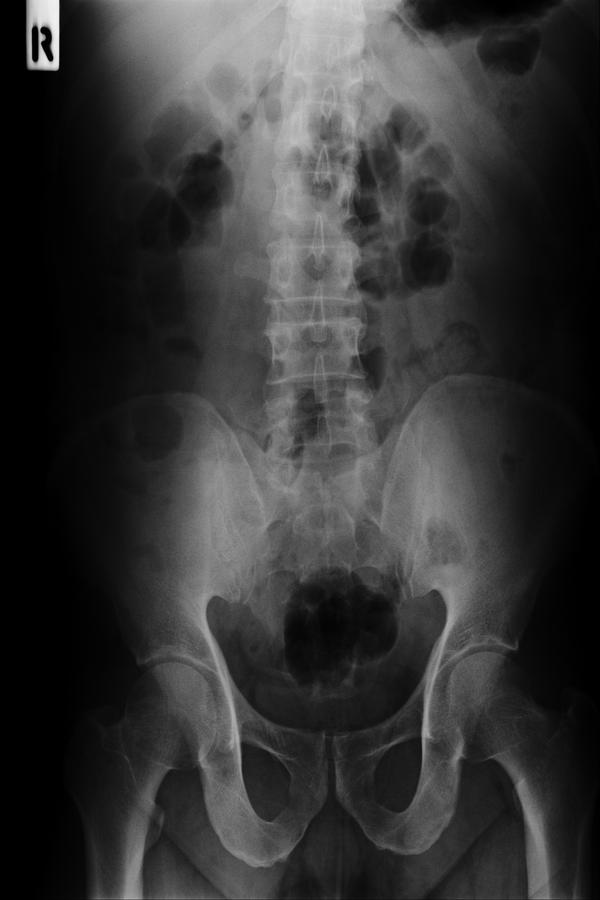lumbar scoliosis: (259, 115, 384, 481)
